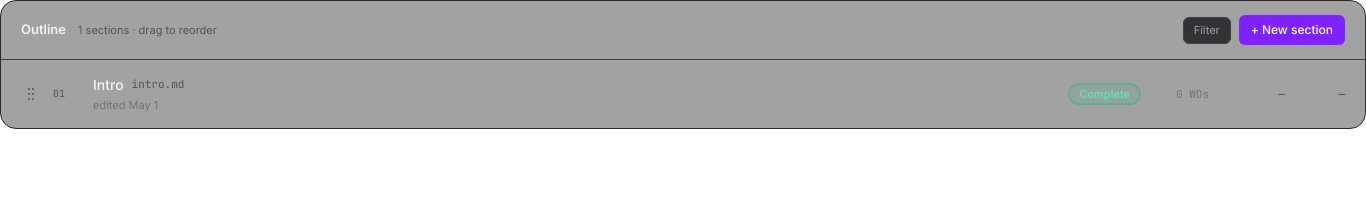
Test: ProjectOutlineCard › opens add row when + New section is clicked for admins
Click the button "+ New section": (1292, 30) x1=1239 y1=15 x2=1345 y2=45
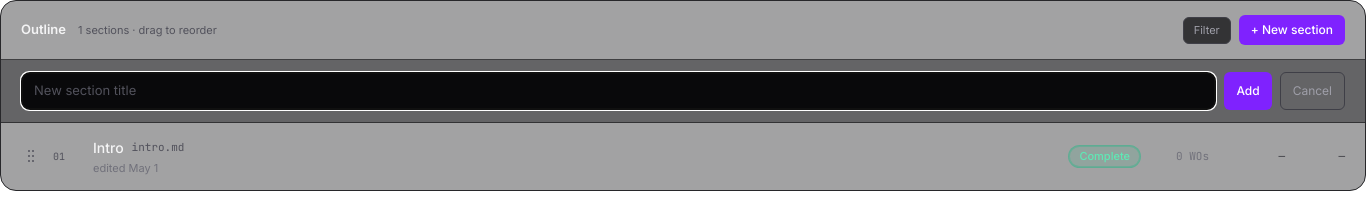
Check: the field with placeholder "New section title" is shown, box x1=21 y1=72 x2=1216 y2=110
